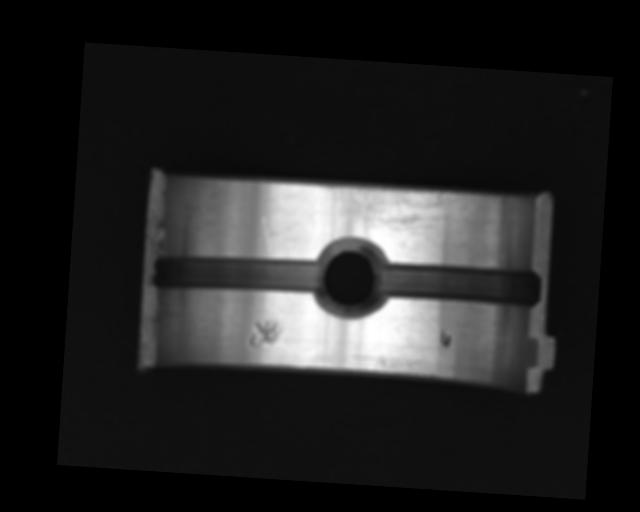blot: (439, 327, 451, 350)
bruise: (247, 318, 283, 351)
gap: (151, 249, 323, 301), (375, 261, 542, 309)
hole: (310, 236, 391, 319)
nick: (259, 216, 275, 257)
scratch: (317, 182, 476, 236)
